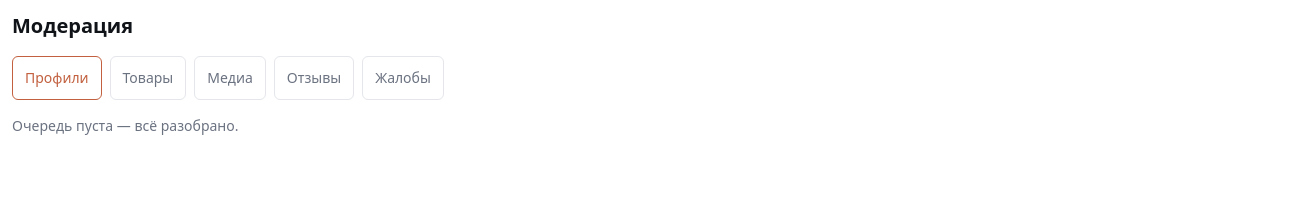
it: ModerationPage › жалобу можно отклонить
Later steps or results of the test are not shown.
Click the tab "Жалобы" at (403, 78), box [362,56,444,100]
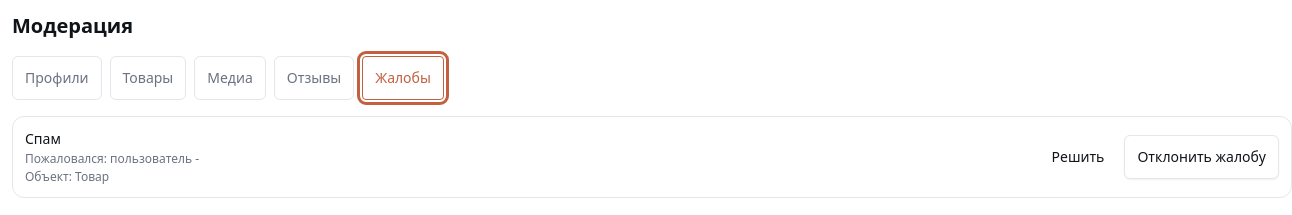
Expected: the text "Спам" is shown, [25,129,61,148]
